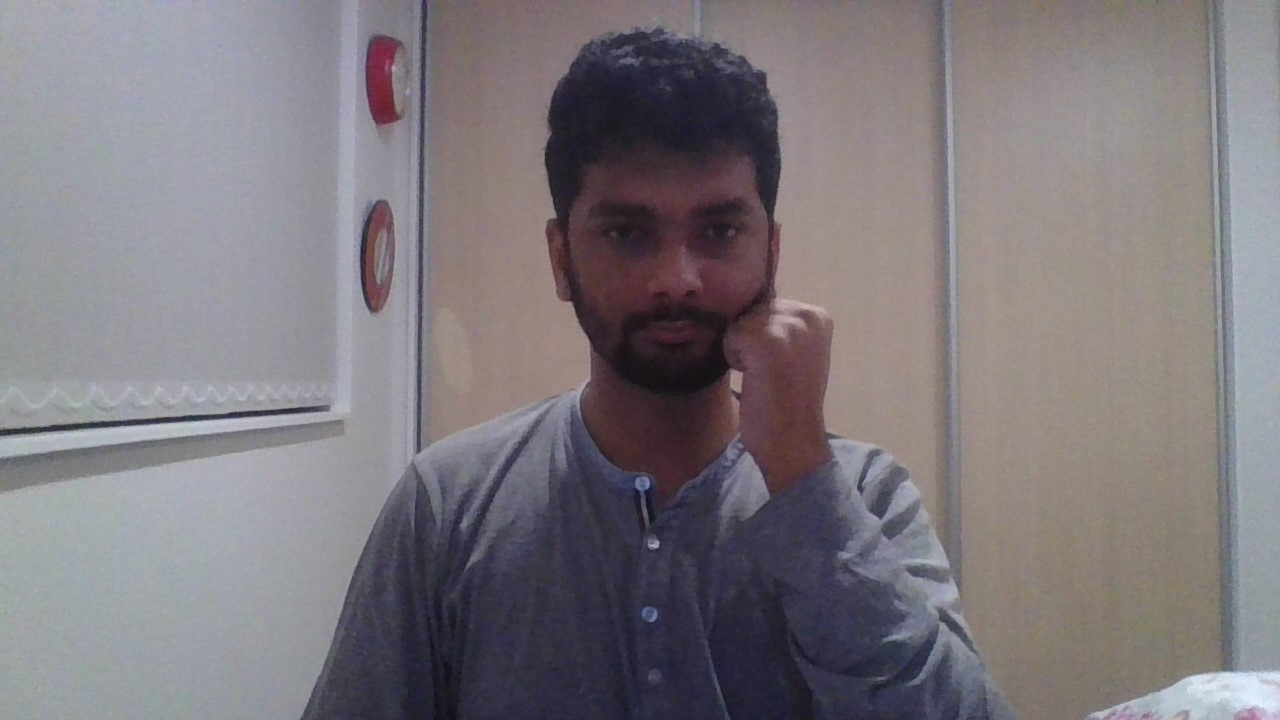day: (723, 297, 835, 499)
